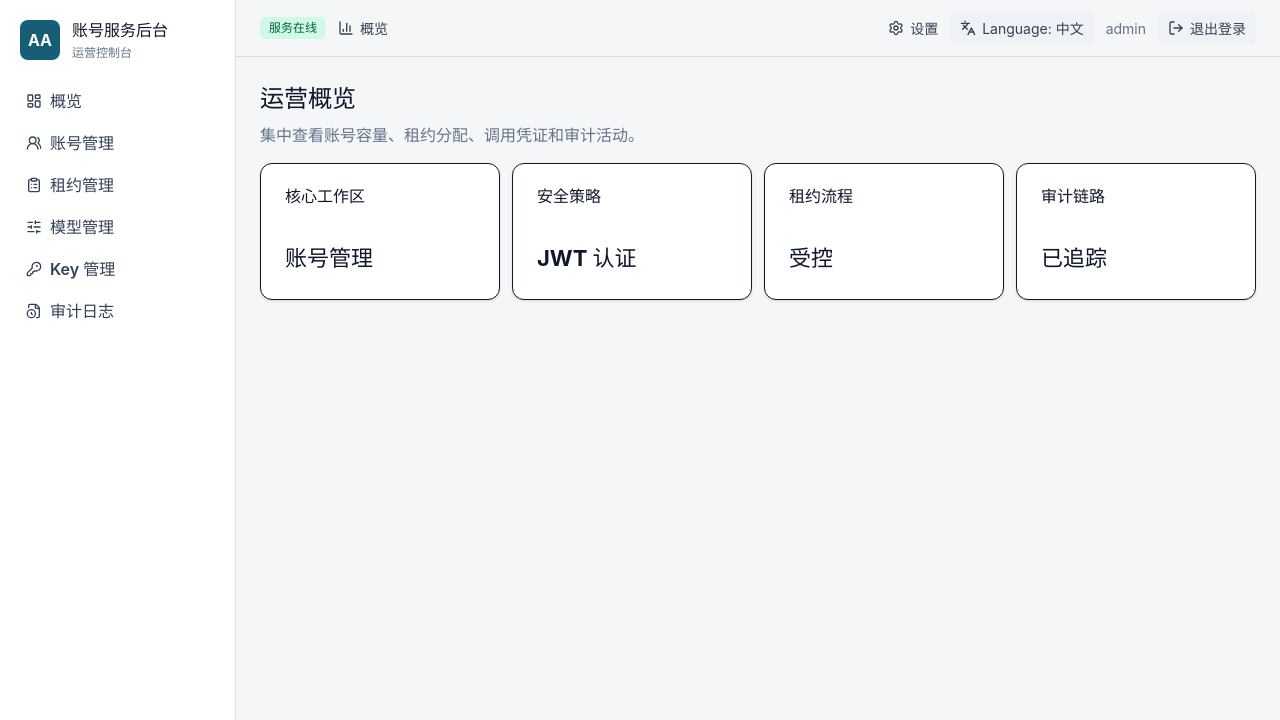
Test: App › shows the operations shell and switches sections when signed in
This screenshot has width=1280, height=720.
Expected: the navigation bar named "后台导航" is shown, [14, 82, 221, 330]
Expected: the heading "运营概览" is shown, [260, 84, 356, 113]
Click the button "Key 管理": (118, 269) [14, 250, 221, 288]
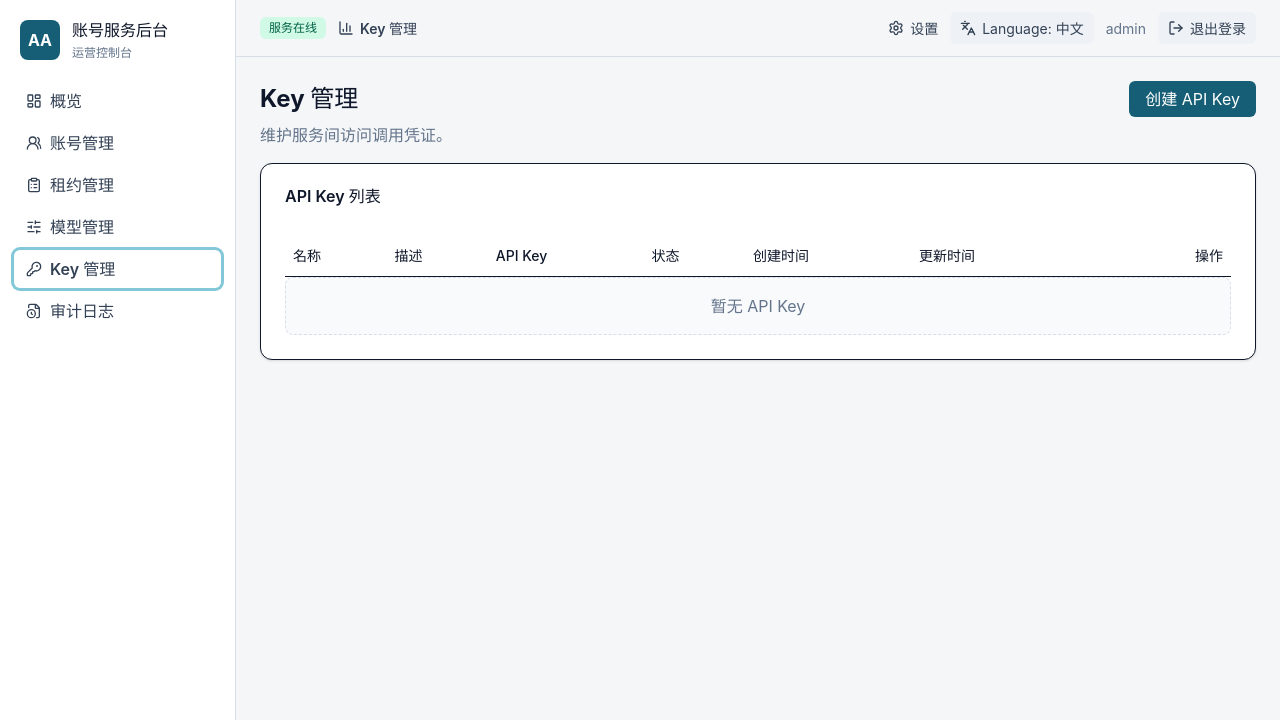
Expected: the heading "Key 管理" is shown, [260, 84, 358, 113]
Click the button "模型管理": (118, 227) [14, 208, 221, 246]
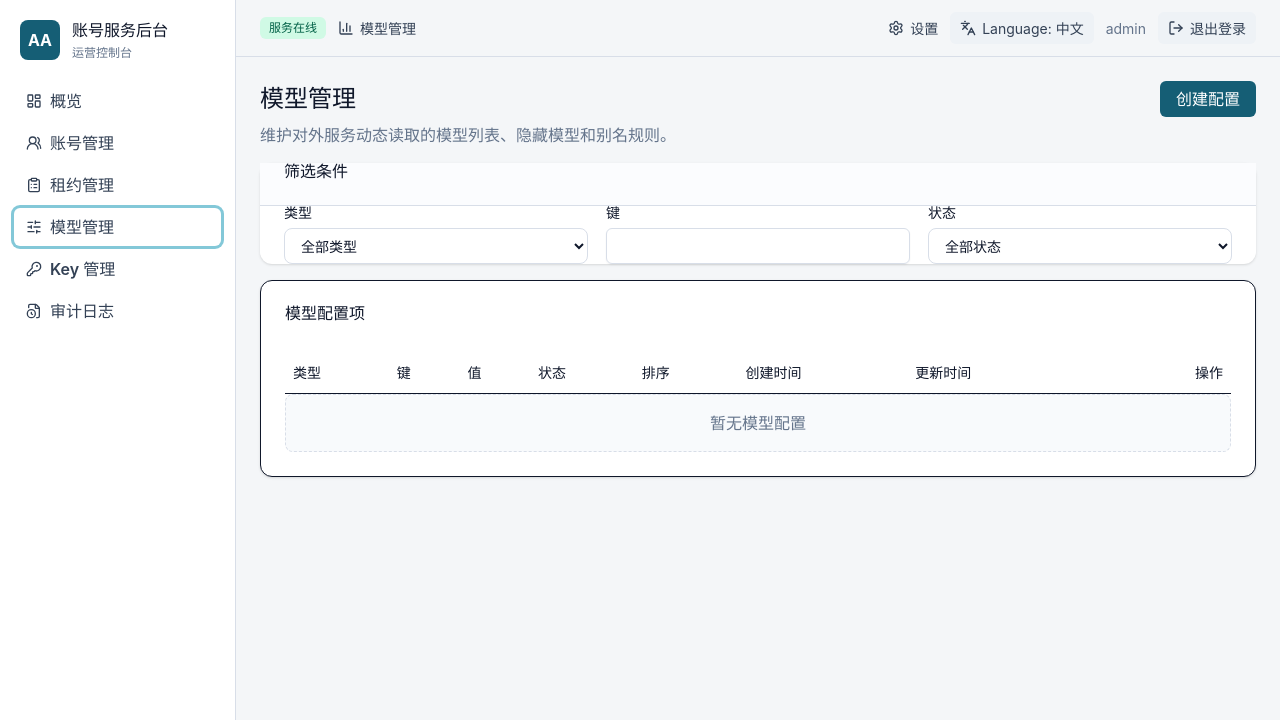
Expected: the heading "模型管理" is shown, [260, 84, 356, 113]
